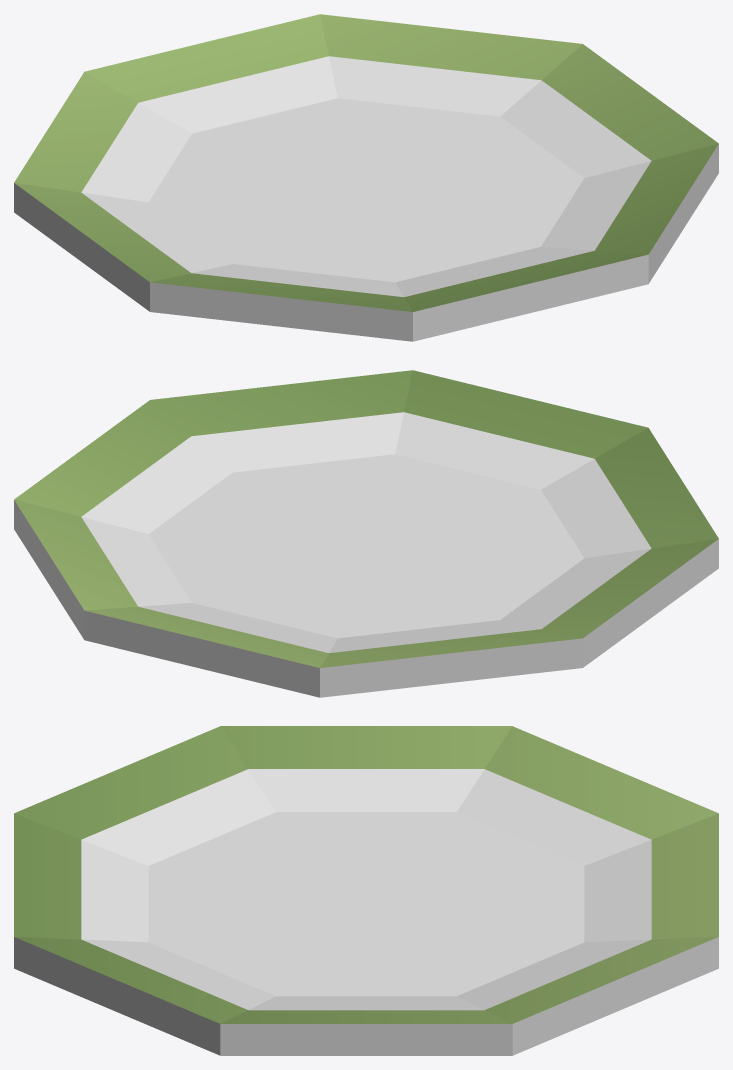
Rendered from Plate1_C4.fbx.
3 views of the same model, one above another, from view 1: azimuth 30°, elevation 25°; view 2: azimuth 150°, elevation 25°; view 3: azimuth 270°, elevation 25° (orthographic). The views are drawn at different scales.
Visible parts, largest first — view 1: Plate1_C4; view 2: Plate1_C4; view 3: Plate1_C4.
Part boxes in pixels (x1=…): Plate1_C4: x1=14, y1=14, x2=718, y2=341; Plate1_C4: x1=14, y1=370, x2=718, y2=697; Plate1_C4: x1=14, y1=726, x2=718, y2=1055.
Size of the model in its own units: 15.3 by 1.46 by 15.3.
